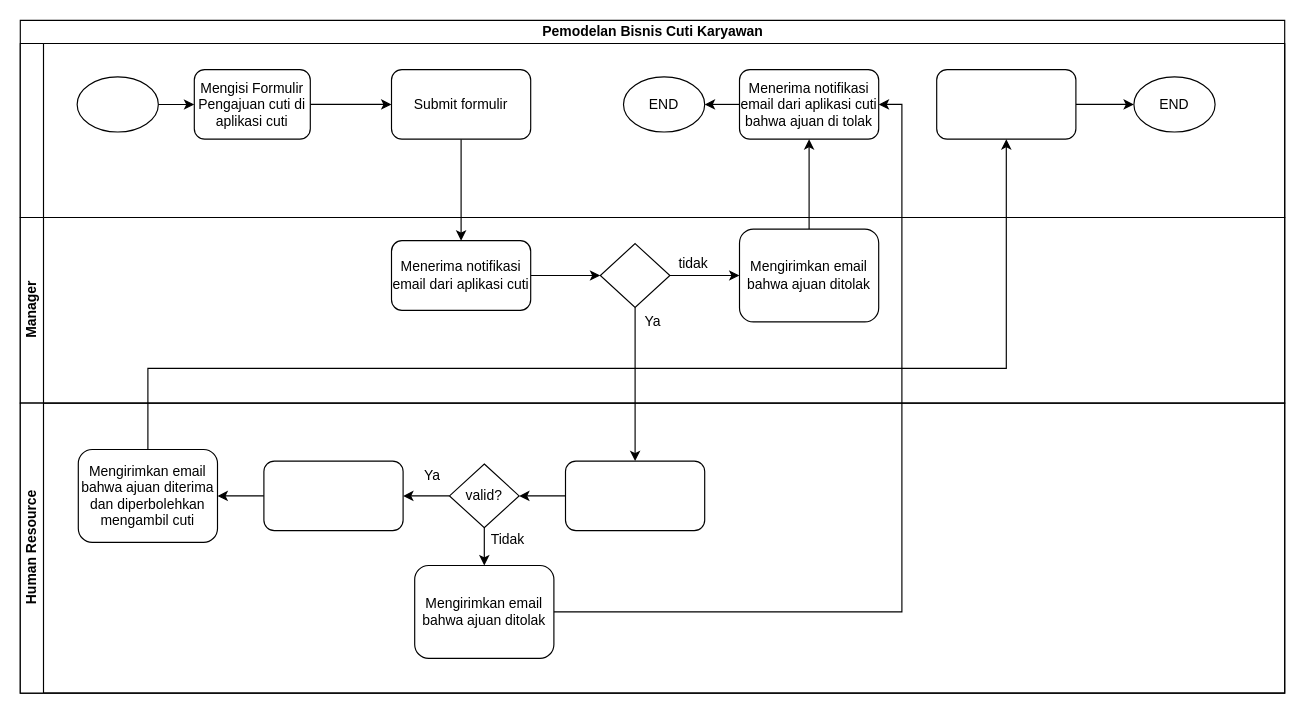
Some shapes in this 1305 by 713 pixel diagram are drawn without their labels. The box of each missing label's shape, as (x1, y1, x2, y2) in pixels:
Cek kuota dan kelengkapan dokumen: (564, 460, 705, 531)
Disetujui?: (599, 242, 670, 307)
Karyawan: (19, 42, 1285, 217)
Menerima notifikasi email dari aplikasi cuti bahwa diperbolehkan cuti: (936, 68, 1076, 139)
menyetujui cuti: (263, 460, 403, 531)
START: (76, 76, 158, 132)
